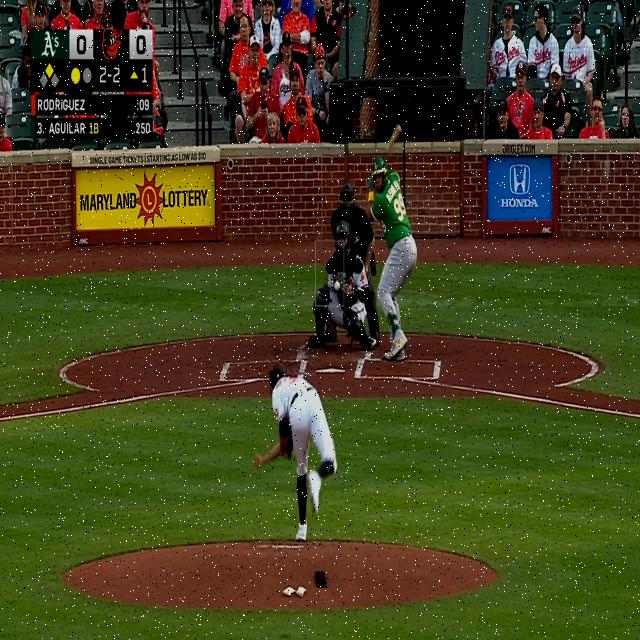baseball: (334, 280, 340, 291)
